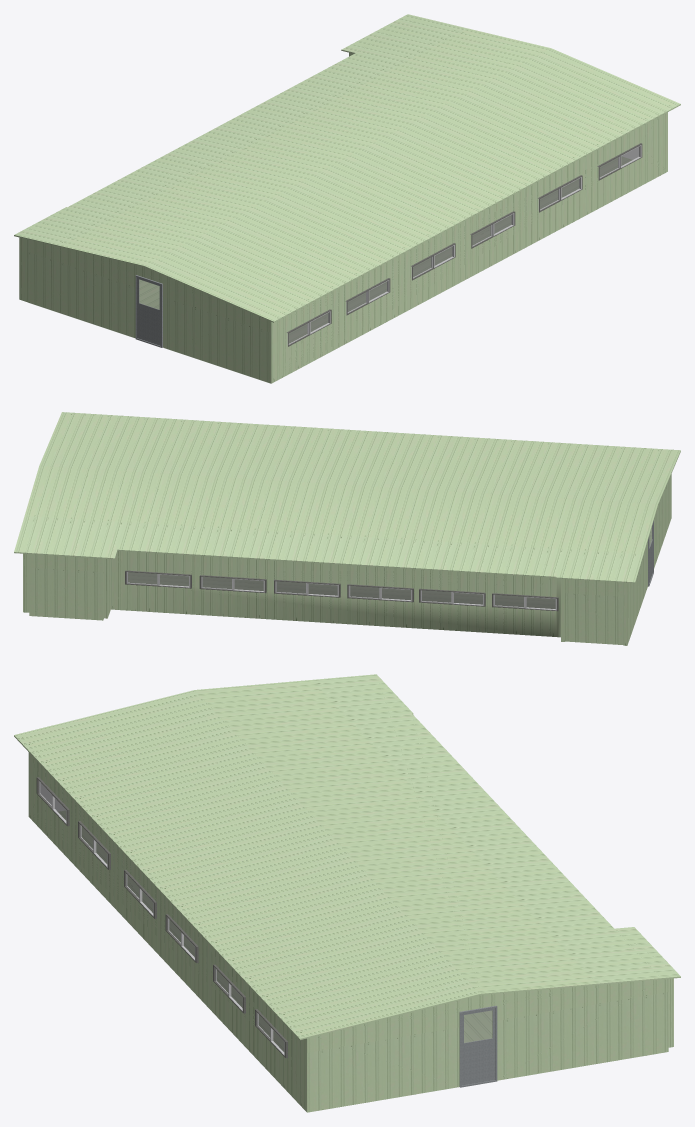
The picture shows the model from 3 angles, top to bottom: view 1: azimuth 30°, elevation 25°; view 2: azimuth 150°, elevation 25°; view 3: azimuth 270°, elevation 25°; orthographic projection. The views are drawn at different scales.
Parts seen in each view (by area): view 1: K棟; view 2: K棟; view 3: K棟.
Boxes of the visible parts, <box> form: K棟: <box>14,14,680,383</box>; K棟: <box>14,412,680,645</box>; K棟: <box>14,674,680,1112</box>.
Size of the model in its own units: 25.99 by 3.13 by 20.09.
7 materials, 5 textured.
